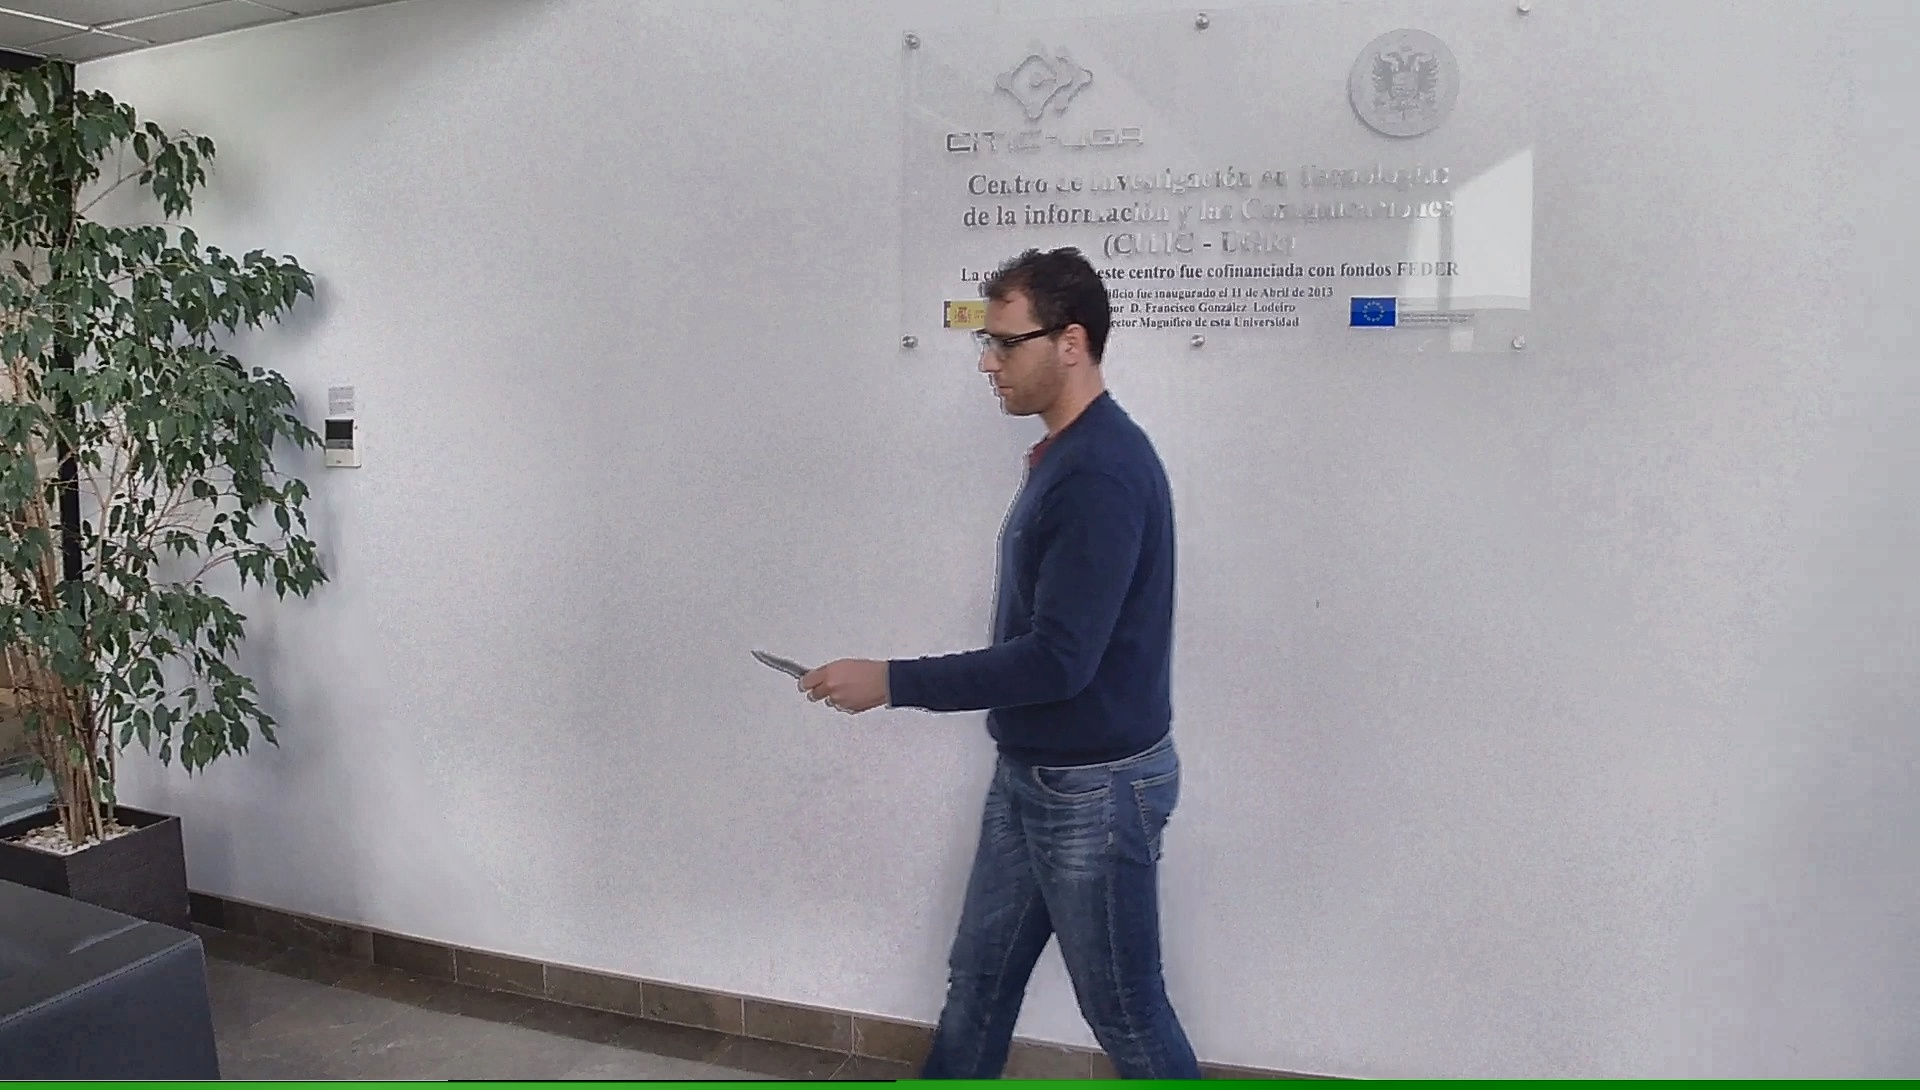knife: (740, 641, 849, 709)
